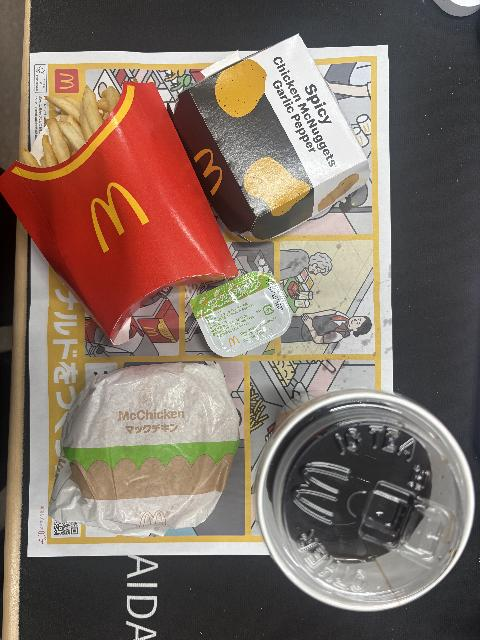burger: (47, 362, 241, 537)
drink: (254, 387, 476, 613)
fries: (0, 80, 237, 345)
nuggets: (165, 33, 371, 244)
sauce: (189, 270, 293, 358)
